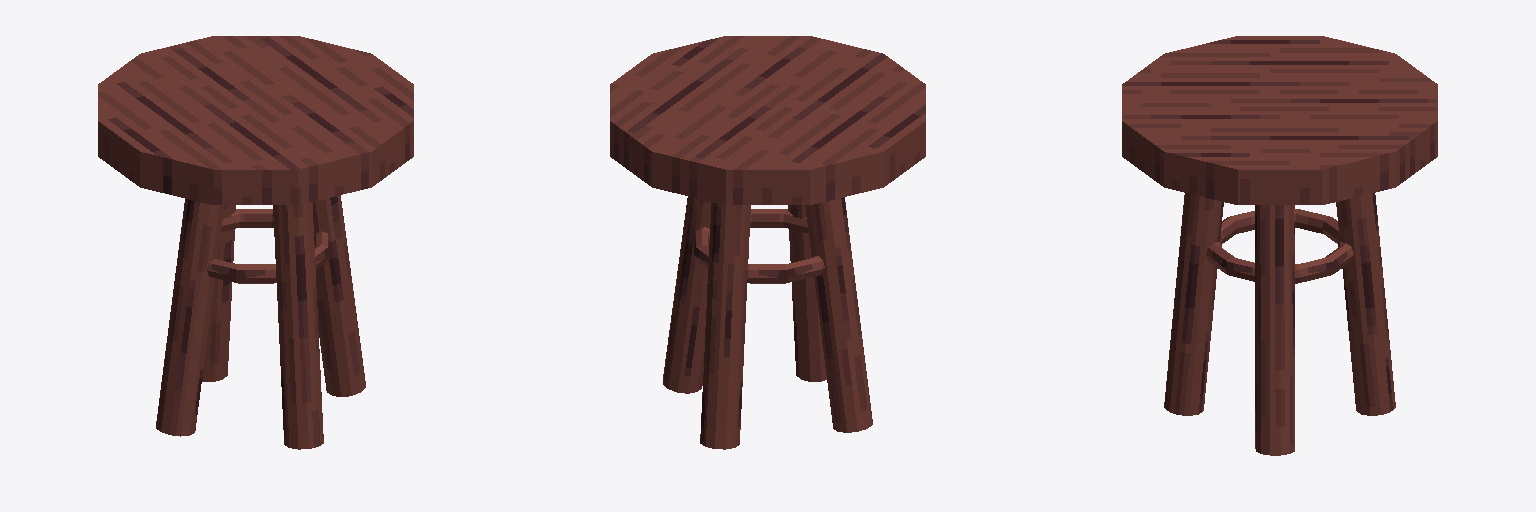
3 renders of one model, left to right at view 1: azimuth 30°, elevation 25°; view 2: azimuth 150°, elevation 25°; view 3: azimuth 270°, elevation 25°, orthographic.
Visible parts, largest first — view 1: cylinder, torus; view 2: cylinder, torus; view 3: cylinder, torus.
Part boxes in pixels (bbox=[...]): cylinder: bbox=[98, 36, 413, 449]; torus: bbox=[207, 209, 329, 283]; cylinder: bbox=[610, 36, 925, 449]; torus: bbox=[694, 209, 824, 283]; cylinder: bbox=[1122, 36, 1437, 455]; torus: bbox=[1206, 209, 1353, 283].
Bounding box in the file's own units: 1 × 1.07 × 1.
Materials: 1 (1 with a texture image).